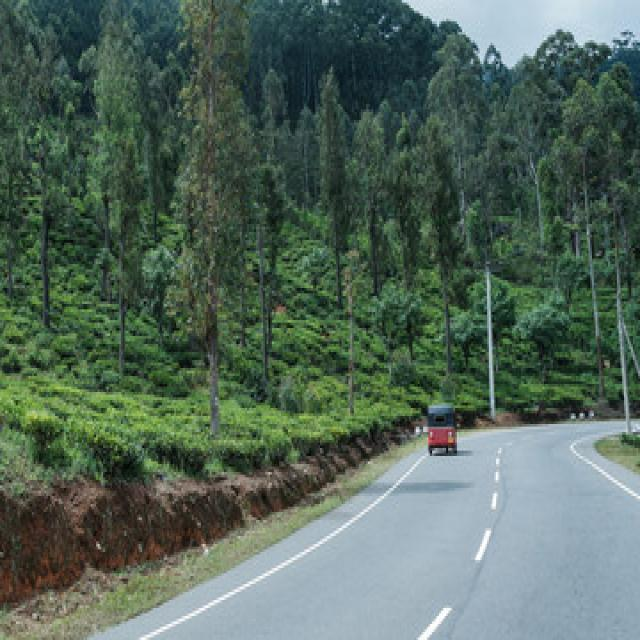three wheeler: (428, 403, 455, 453)
